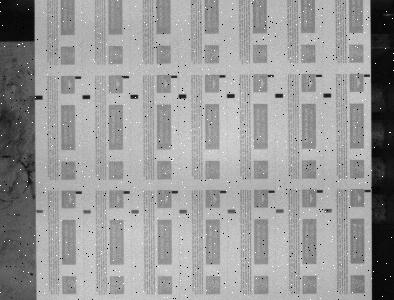incorrect qblock: (324, 208, 332, 212), (276, 209, 284, 213), (179, 209, 187, 213), (228, 209, 236, 213), (36, 210, 44, 213), (83, 210, 91, 213), (131, 210, 139, 213)
qblock: (130, 94, 139, 99), (324, 93, 332, 98), (275, 93, 283, 98), (35, 95, 43, 100), (82, 95, 90, 99), (227, 94, 235, 98), (179, 94, 187, 98)
smallqblock: (220, 190, 227, 193), (365, 189, 372, 192), (171, 75, 178, 78), (364, 74, 371, 77), (76, 191, 82, 194), (172, 191, 178, 194), (269, 190, 275, 193), (123, 76, 129, 79), (75, 76, 81, 79), (268, 74, 274, 77), (220, 75, 226, 78), (317, 74, 323, 77), (124, 191, 130, 193), (317, 190, 323, 192)
